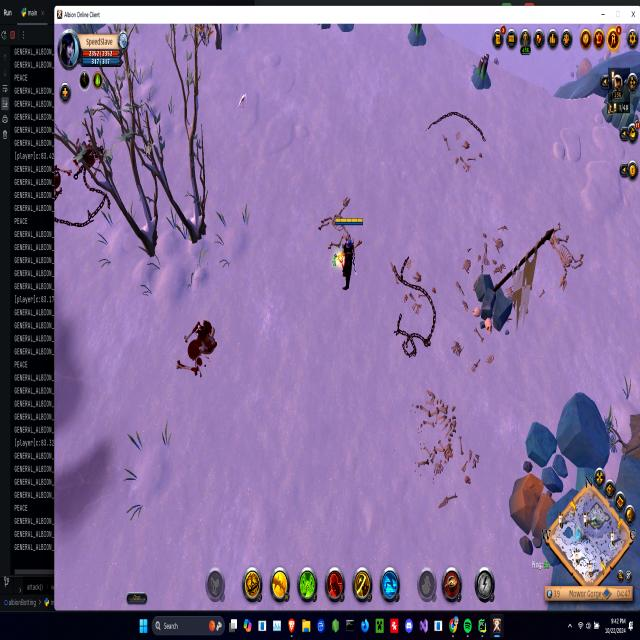player: (470, 50, 494, 96), (408, 21, 432, 51)
red: (323, 205, 365, 294)
tree: (508, 469, 556, 554)
